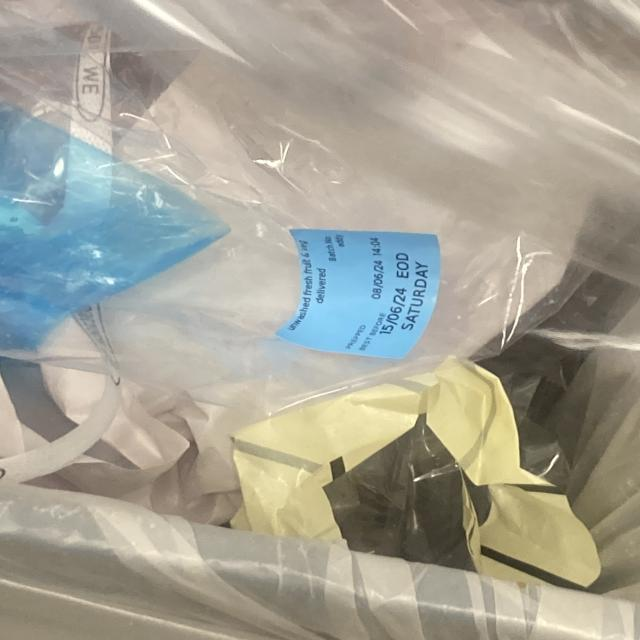product-labels: (284, 227, 446, 362)
